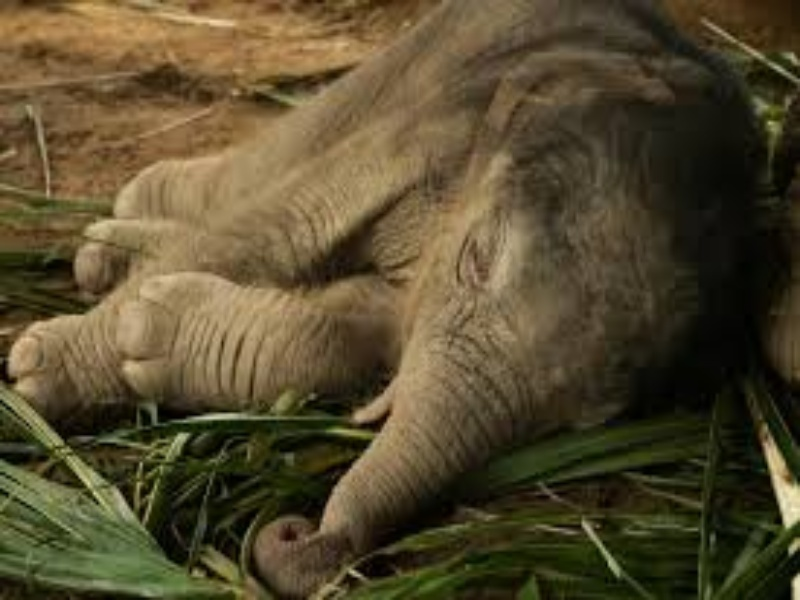elephant: (14, 37, 764, 562)
